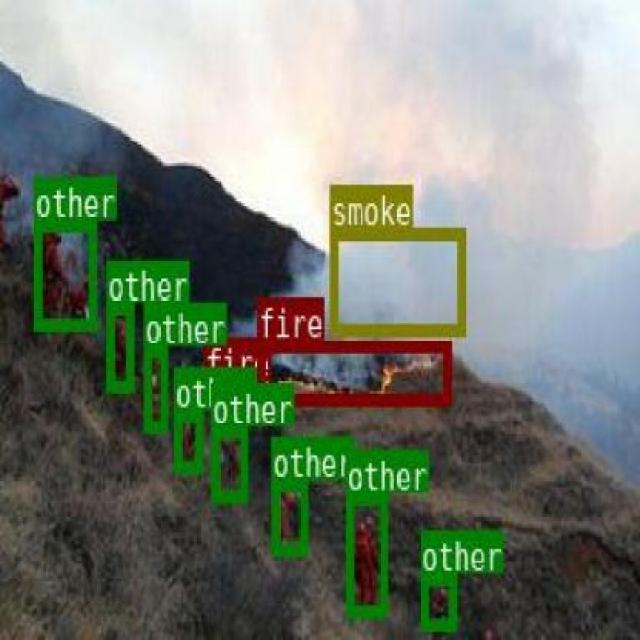fire: (256, 339, 450, 404), (202, 380, 247, 406)
smoke: (328, 225, 464, 332)
